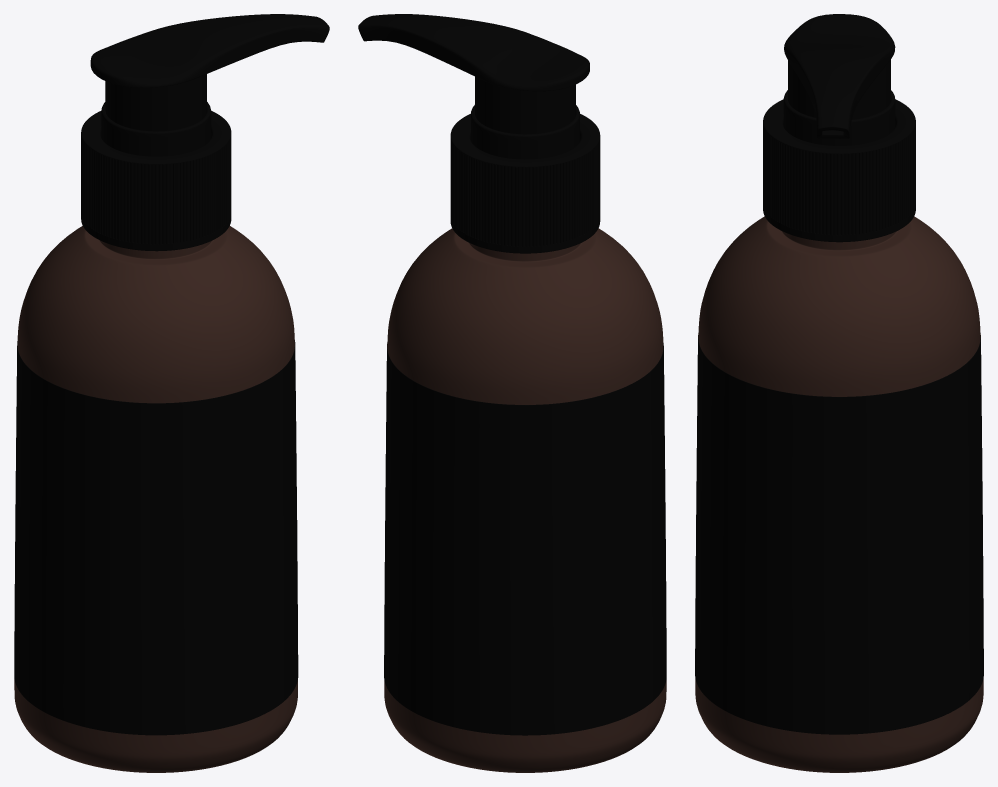
Rendered from Bottle_200ml.fbx.
3 renders of one model, left to right at view 1: azimuth 30°, elevation 25°; view 2: azimuth 150°, elevation 25°; view 3: azimuth 270°, elevation 25°, orthographic. The views are drawn at different scales.
Visible parts, largest first — view 1: BottleLabel_B, BottleBody_B, pGear1, pCube1, pCylinder6, pCylinder3, pCylinder5; view 2: BottleLabel_B, BottleBody_B, pGear1, pCube1, pCylinder6, pCylinder3, pCylinder5; view 3: BottleLabel_B, BottleBody_B, pGear1, pCube1, pCylinder3, pCylinder5, pCylinder6.
Boxes of the visible parts, x1=… form: BottleLabel_B: x1=14, y1=340, x2=298, y2=735; BottleBody_B: x1=14, y1=226, x2=297, y2=772; pGear1: x1=81, y1=132, x2=231, y2=244; pCube1: x1=90, y1=14, x2=329, y2=87; pCylinder6: x1=105, y1=74, x2=206, y2=131; pCylinder3: x1=81, y1=111, x2=231, y2=251; pCylinder5: x1=101, y1=102, x2=211, y2=156; BottleLabel_B: x1=384, y1=342, x2=666, y2=735; BottleBody_B: x1=384, y1=228, x2=666, y2=772; pGear1: x1=450, y1=136, x2=600, y2=246; pCube1: x1=358, y1=14, x2=589, y2=91; pCylinder6: x1=475, y1=76, x2=575, y2=134; pCylinder3: x1=450, y1=113, x2=600, y2=253; pCylinder5: x1=471, y1=105, x2=579, y2=159; BottleLabel_B: x1=695, y1=335, x2=983, y2=734; BottleBody_B: x1=695, y1=216, x2=983, y2=772; pGear1: x1=763, y1=123, x2=915, y2=235; pCube1: x1=784, y1=14, x2=895, y2=138; pCylinder3: x1=763, y1=99, x2=915, y2=242; pCylinder5: x1=783, y1=90, x2=895, y2=145; pCylinder6: x1=788, y1=59, x2=890, y2=119.
Bounding box in the file's own units: 27 × 60.68 × 23.12.
